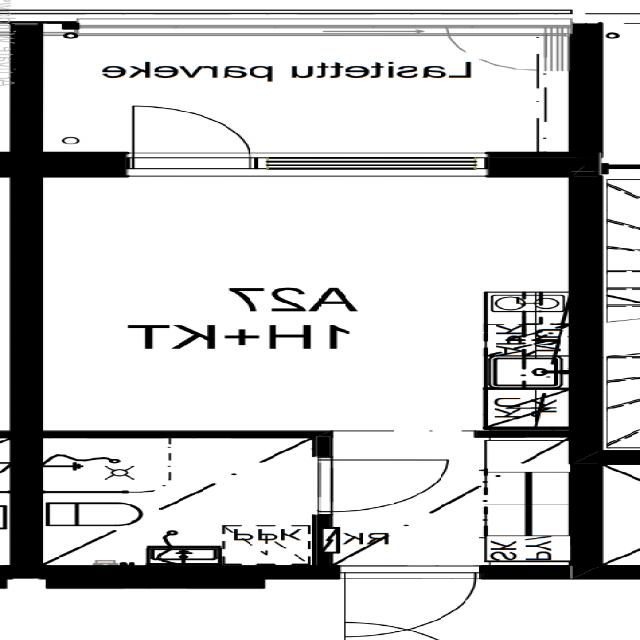door: (346, 565, 476, 638), (136, 100, 250, 176), (314, 459, 451, 512)
